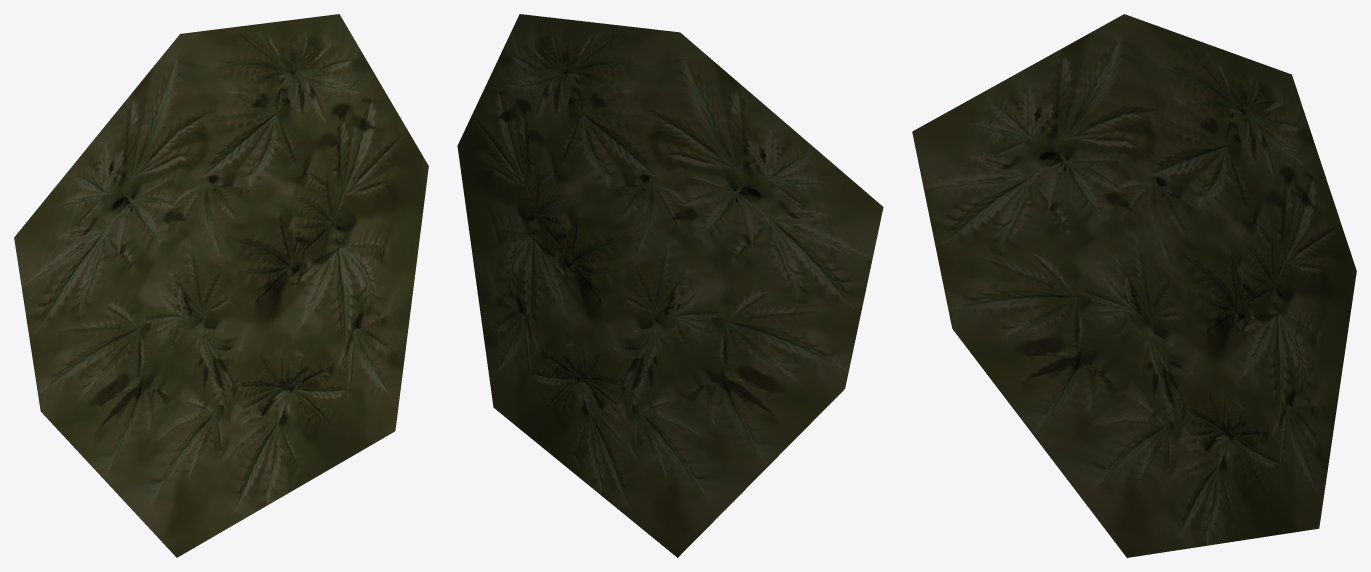
File: TI_Bush_01_part_01.fbx
The picture shows the model from 3 angles, left to right: view 1: azimuth 30°, elevation 25°; view 2: azimuth 150°, elevation 25°; view 3: azimuth 330°, elevation 25°; orthographic projection. The views are drawn at different scales.
Visible parts, largest first — view 1: TI_Bush_01_part_01; view 2: TI_Bush_01_part_01; view 3: TI_Bush_01_part_01.
Boxes of the visible parts, x1,y1,x2,y2 form: TI_Bush_01_part_01: (14,14,428,557); TI_Bush_01_part_01: (457,14,883,557); TI_Bush_01_part_01: (912,14,1356,557).
Size of the model in its own units: 0.897 by 1.07 by 0.0813.
